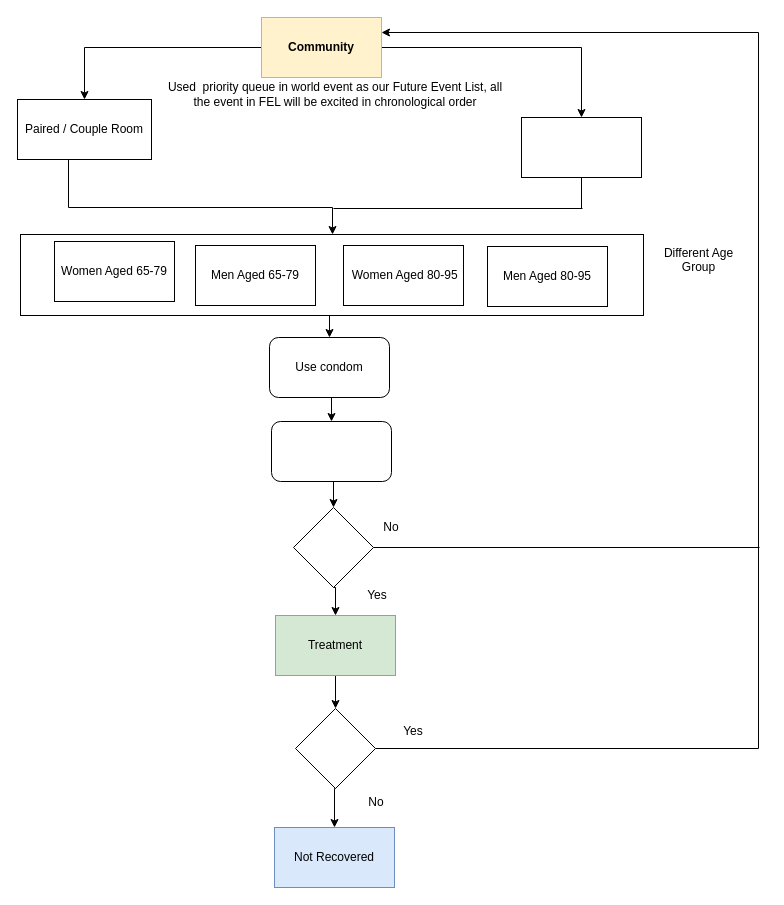
Some shapes in this 784 by 905 pixel diagram are drawn without their labels. The shapes that lost their labels are listed below. From the top down, each one's centre as x and y in pixels, then its label:
At [581,147]: "Single Room".
At [331,451]: "Notify partner".
At [333,547]: "Infected".
At [335,748]: "Recovery".
